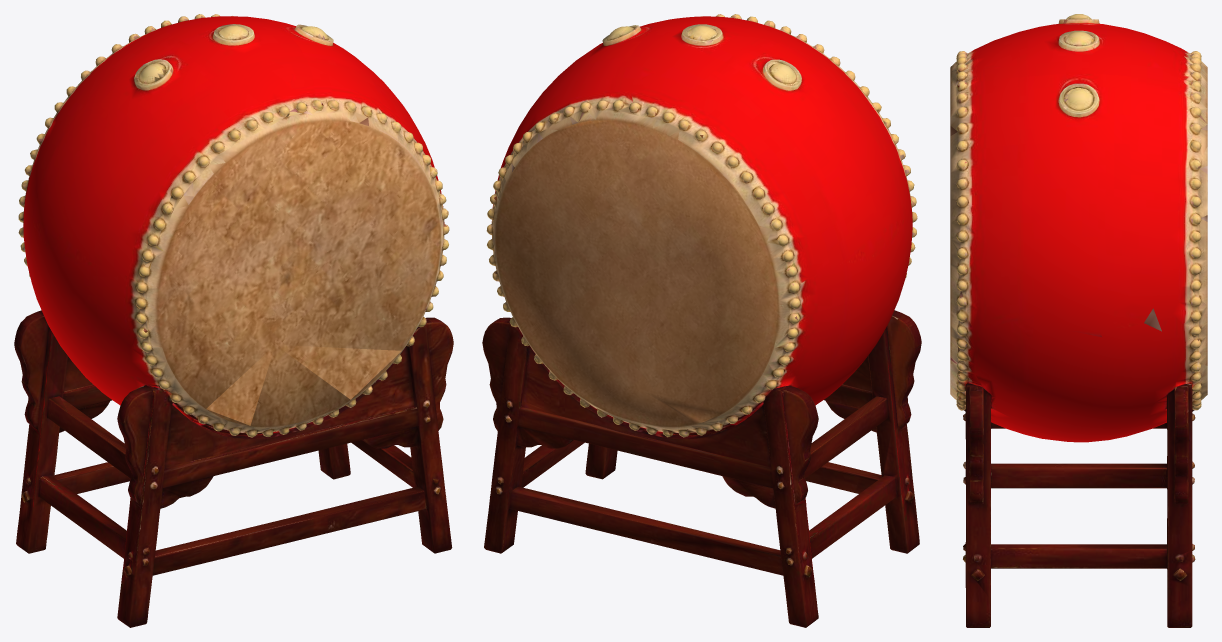
Rendered from drum.glb.
The picture shows the model from 3 angles, left to right: view 1: azimuth 30°, elevation 25°; view 2: azimuth 150°, elevation 25°; view 3: azimuth 270°, elevation 25°; orthographic projection.
Parts seen in each view (by area): view 1: mesh; view 2: mesh; view 3: mesh.
Part boxes in pixels (x1,y1,x2,y2): mesh: [14, 14, 453, 627]; mesh: [482, 14, 921, 627]; mesh: [950, 14, 1207, 627].
Bounding box in the file's own units: 0.7302 × 1 × 0.4513.
Materials: 1 (1 with a texture image).
